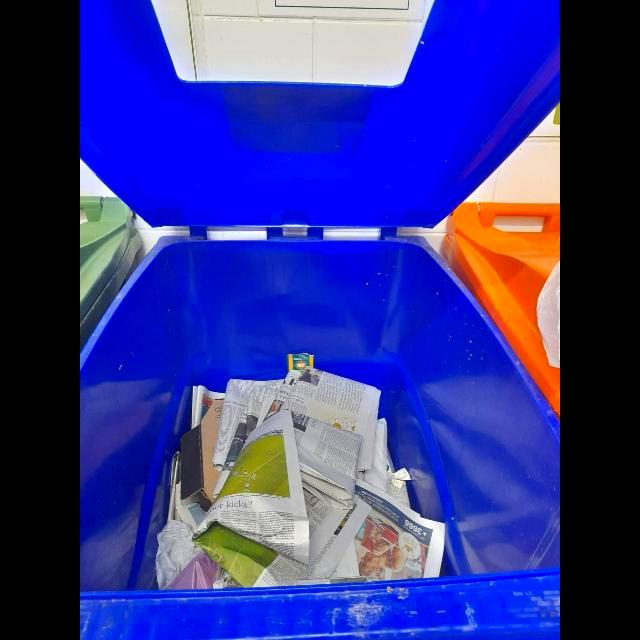cardboard: (181, 400, 223, 512)
paper: (192, 410, 371, 588), (265, 367, 381, 510), (212, 370, 301, 498), (354, 479, 445, 582), (191, 386, 225, 430)
plastic_bag: (155, 520, 202, 590)
